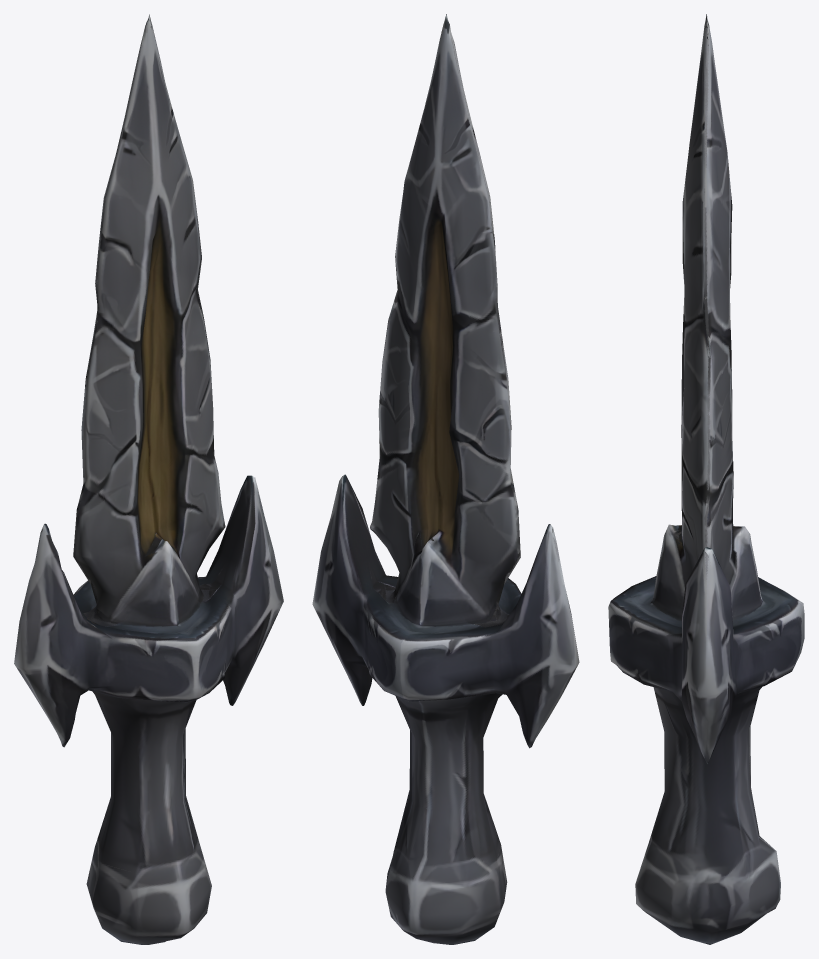
The model's file is gravewood defender.glb.
3 renders of one model, left to right at view 1: azimuth 30°, elevation 25°; view 2: azimuth 150°, elevation 25°; view 3: azimuth 270°, elevation 25°, orthographic.
Parts seen in each view (by area): view 1: input; view 2: input; view 3: input.
Boxes of the visible parts, x1,y1,x2,y2 form: input: (14, 14, 283, 944); input: (312, 14, 579, 944); input: (608, 14, 804, 944).
Bounding box in the file's own units: 0.5648 × 1.91 × 0.3672.
1 material, 1 textured.
